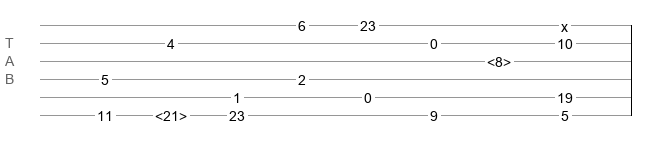0: (364, 90, 372, 100), (430, 36, 438, 46)
1: (233, 90, 241, 100)
10: (557, 36, 573, 46)
11: (97, 108, 113, 118)
19: (557, 90, 573, 100)
2: (298, 72, 306, 82)
23: (229, 108, 245, 118), (360, 18, 376, 28)
4: (167, 36, 175, 46)
5: (101, 72, 109, 82), (561, 108, 569, 118)
6: (298, 18, 306, 28)
9: (430, 108, 438, 118)
harmonic: (155, 108, 187, 118), (487, 54, 511, 64)
x: (561, 19, 568, 27)
